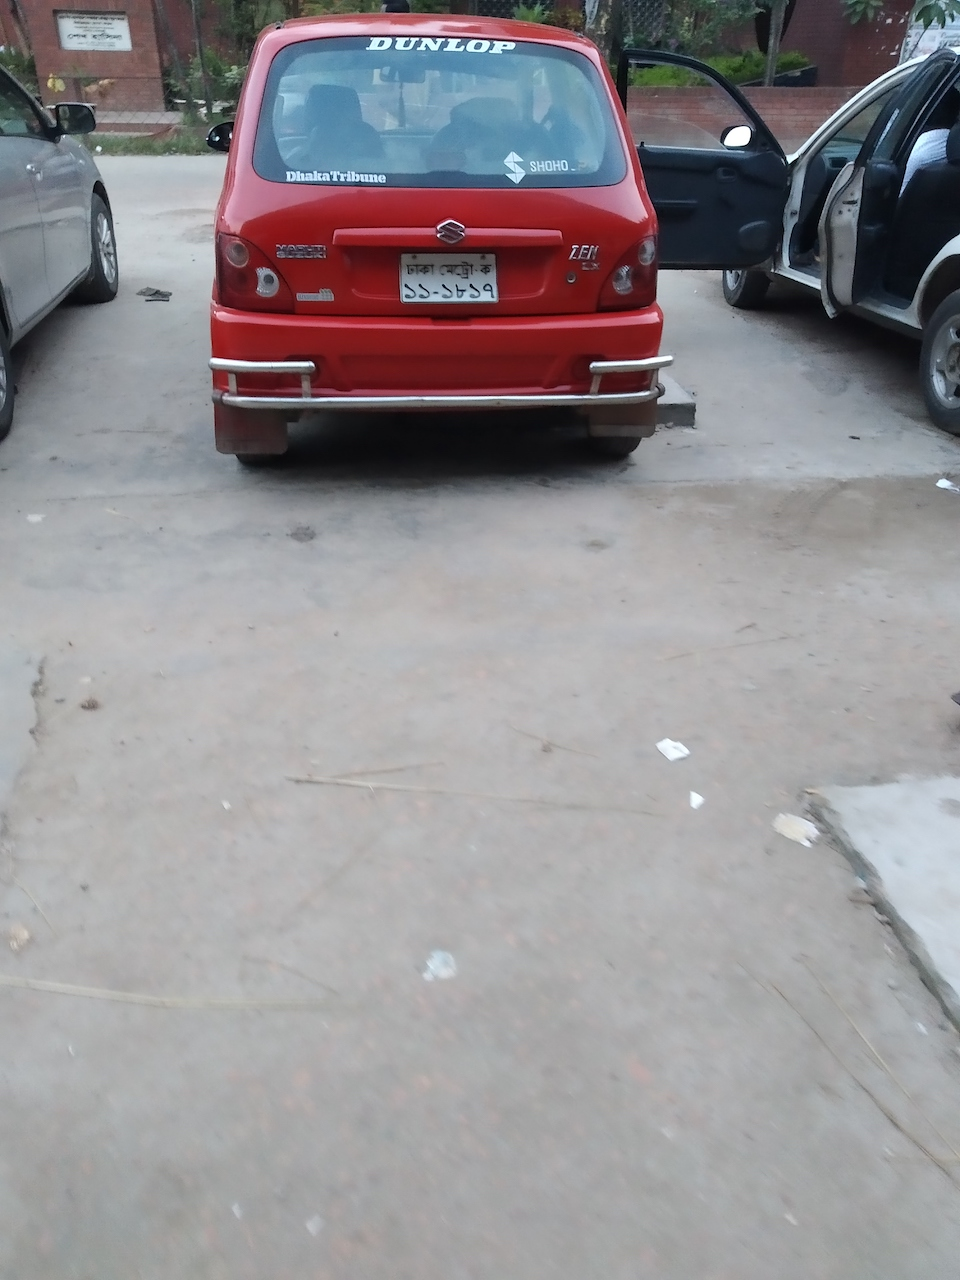registration_plate: (398, 252, 499, 304)
